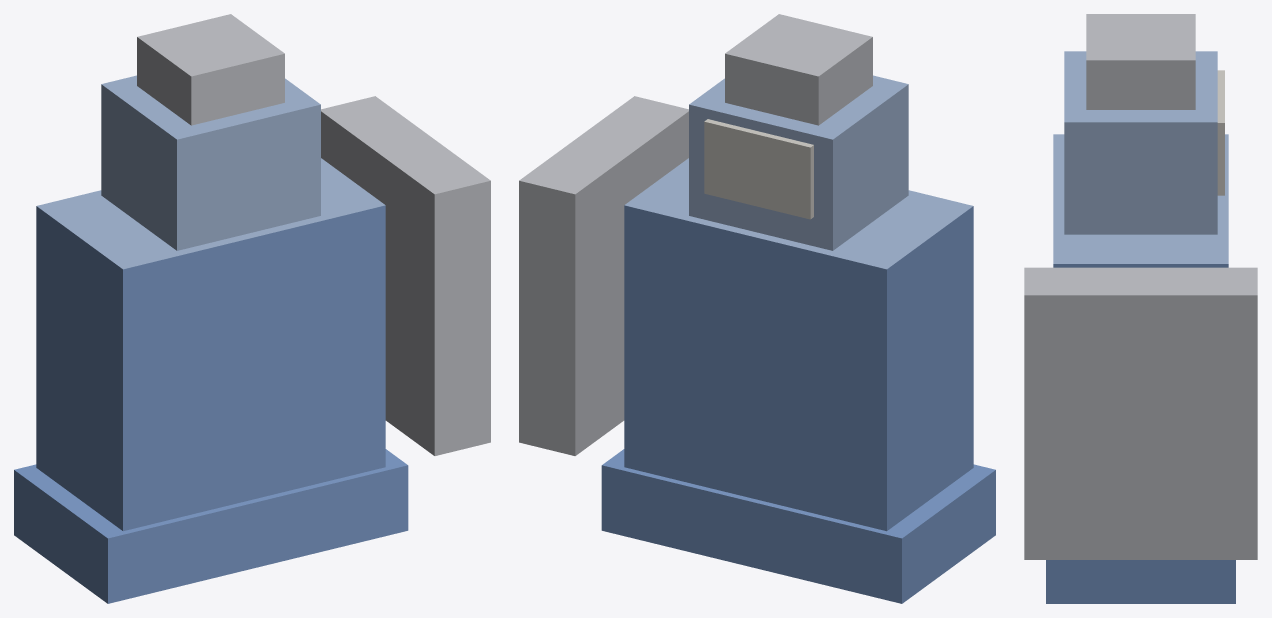
Rendered from hero_tank.glb.
3 renders of one model, left to right at view 1: azimuth 30°, elevation 25°; view 2: azimuth 150°, elevation 25°; view 3: azimuth 270°, elevation 25°, orthographic.
Visible parts, largest first — view 1: mesh0; view 2: mesh0; view 3: mesh0.
Part boxes in pixels (box(x1,y1,x2,y2)): mesh0: box(14, 14, 490, 603); mesh0: box(519, 14, 995, 603); mesh0: box(1024, 14, 1257, 603).
Size of the model in its own units: 0.595 by 0.745 by 0.32.
